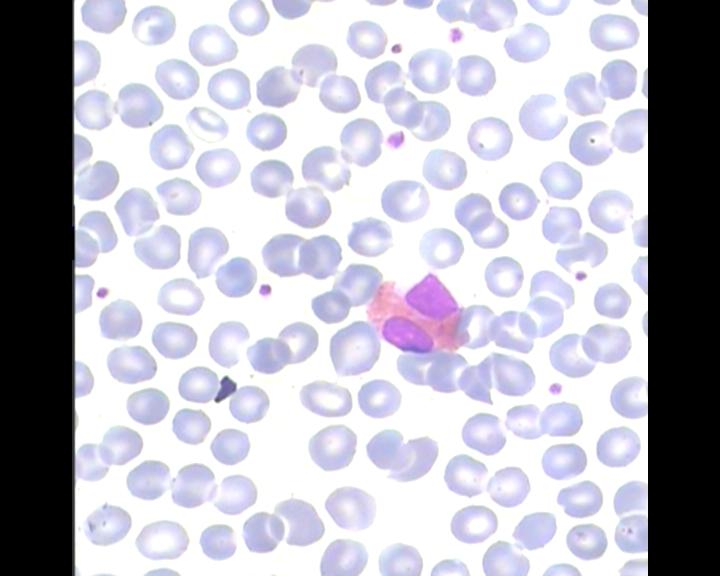eosi: (362, 267, 471, 354)
